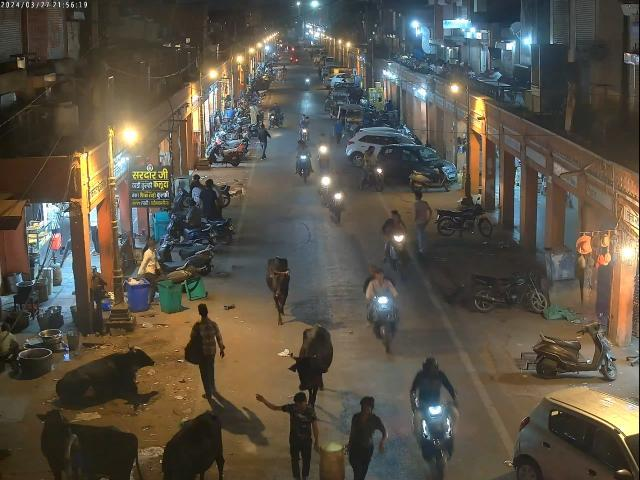car: (510, 387, 640, 480), (380, 142, 458, 184)
cattle: (34, 406, 142, 480), (54, 344, 156, 408), (158, 409, 226, 480), (289, 324, 333, 404), (264, 254, 290, 326)
helmet: (422, 357, 440, 381)
motorbike: (470, 268, 548, 314), (435, 196, 493, 237)
motorbike-rider: (362, 146, 386, 193)
no_helmet: (374, 271, 384, 284), (394, 213, 401, 224), (299, 141, 305, 150)
person: (254, 390, 318, 480), (344, 396, 389, 480), (188, 304, 225, 400), (138, 239, 160, 310), (413, 192, 432, 254), (258, 124, 270, 161)
scooty: (533, 316, 617, 382), (163, 236, 215, 274), (148, 250, 194, 292), (408, 164, 452, 192), (208, 138, 246, 164), (294, 140, 314, 182)
scooty-rider: (409, 357, 456, 479), (364, 266, 401, 348), (164, 198, 213, 250), (382, 211, 413, 278), (318, 136, 330, 168)
